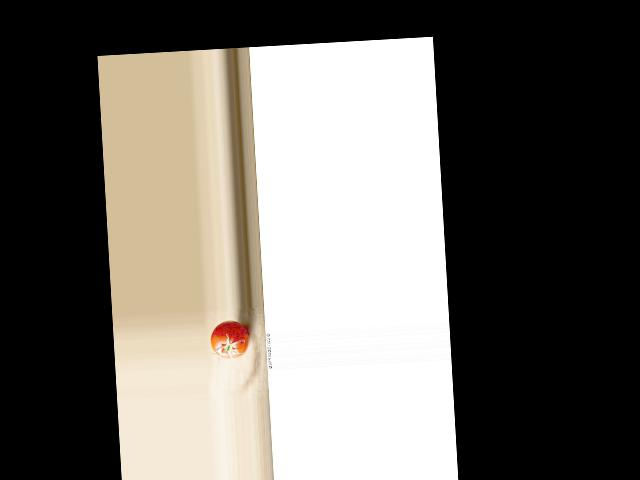tomato: (210, 320, 249, 360)
